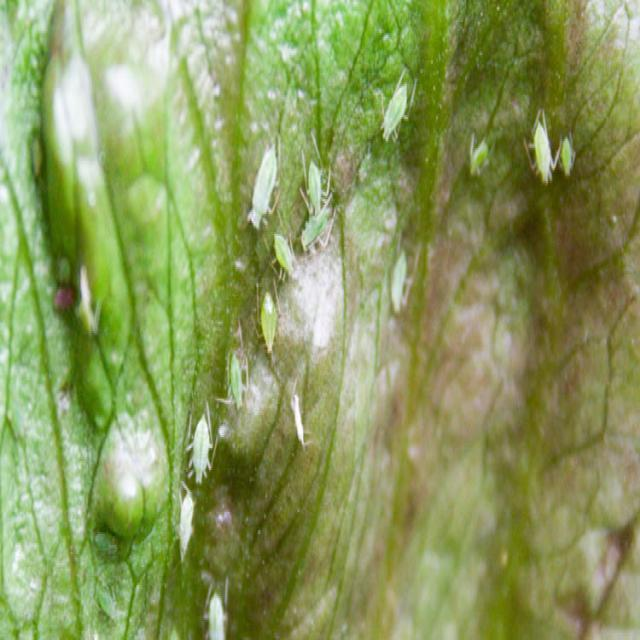Aphids: (207, 102, 350, 426), (172, 402, 222, 569), (234, 127, 290, 230), (377, 59, 419, 158)
